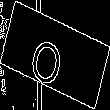O_N: (35, 24, 75, 86)
